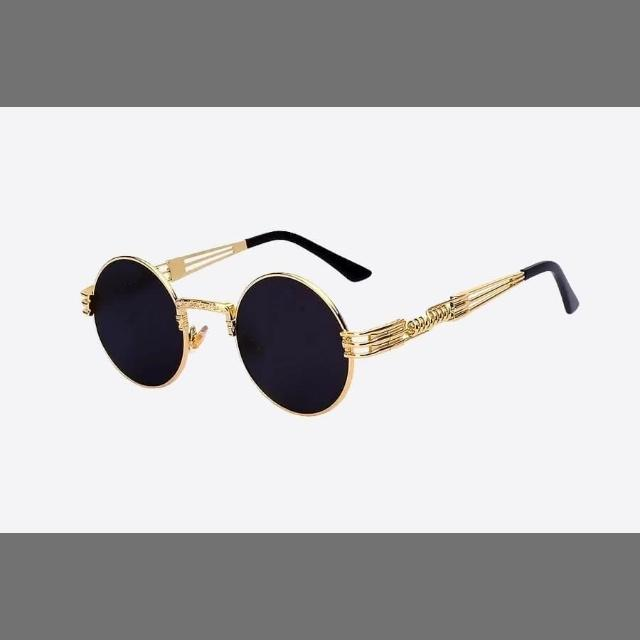Sunglasses: (76, 202, 584, 424)
